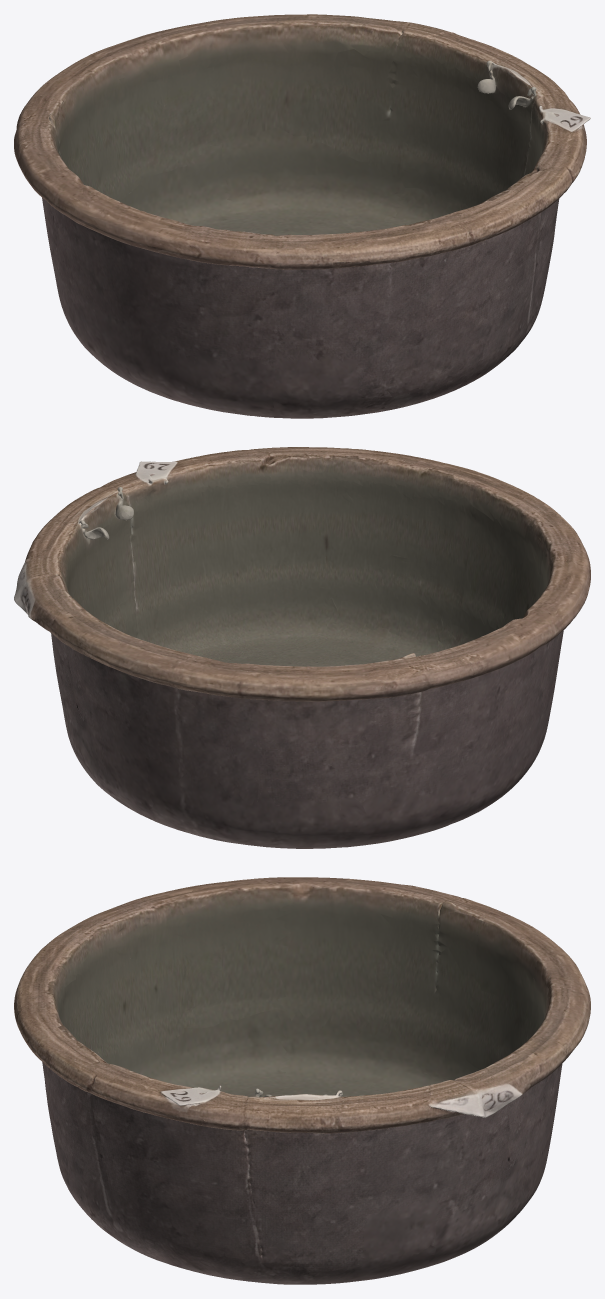
File: ArtefakPasuAdonanTepung.glb
3 renders of one model, top to bottom at view 1: azimuth 30°, elevation 25°; view 2: azimuth 150°, elevation 25°; view 3: azimuth 270°, elevation 25°, orthographic.
Bounding box in the file's own units: 1.89 × 0.7818 × 1.9.
1 material, 1 textured.
